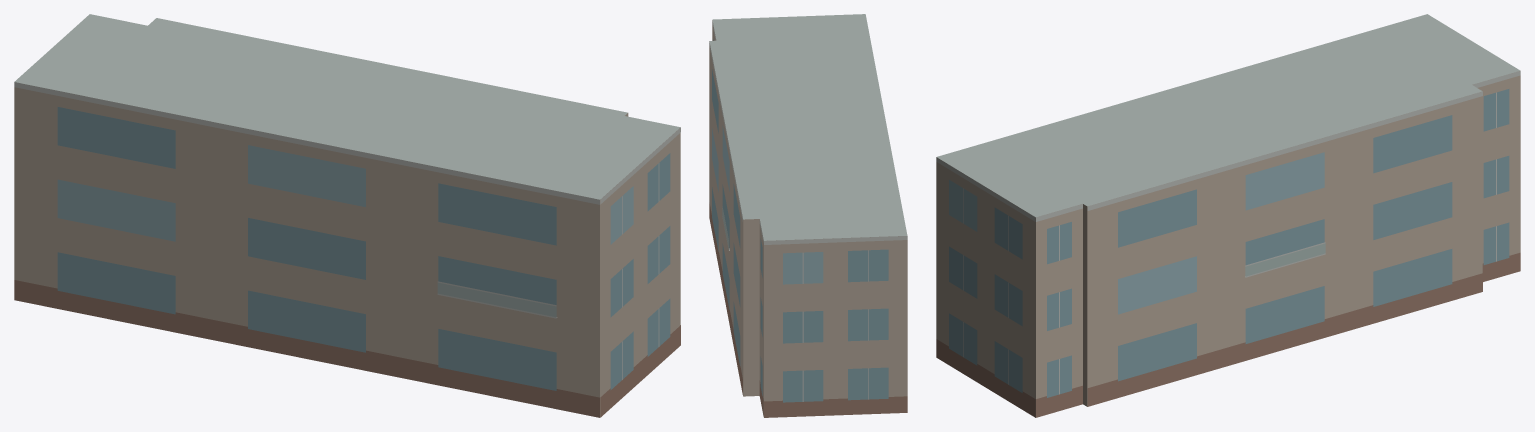
Rendered from survey-upis-32828967.glb.
3 views of the same model, side by side, from view 1: azimuth 30°, elevation 25°; view 2: azimuth 150°, elevation 25°; view 3: azimuth 270°, elevation 25° (orthographic). The views are drawn at different scales.
Parts seen in each view (by area): view 1: survey-upis-32828967.tmp; view 2: survey-upis-32828967.tmp; view 3: survey-upis-32828967.tmp.
Part boxes in pixels (box(x1,y1,x2,y2)): survey-upis-32828967.tmp: box(14, 14, 680, 417); survey-upis-32828967.tmp: box(709, 14, 907, 417); survey-upis-32828967.tmp: box(936, 14, 1520, 417).
Bounding box in the file's own units: 22.41 × 10.3 × 27.21.
